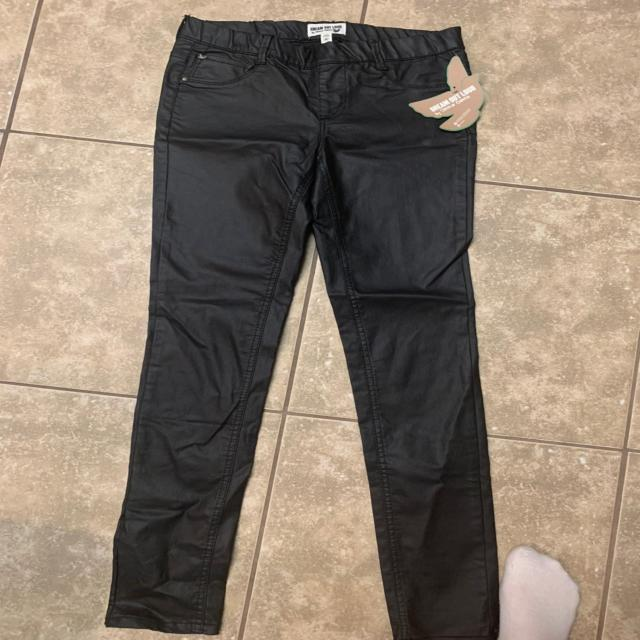long-pants: (107, 9, 499, 640)
